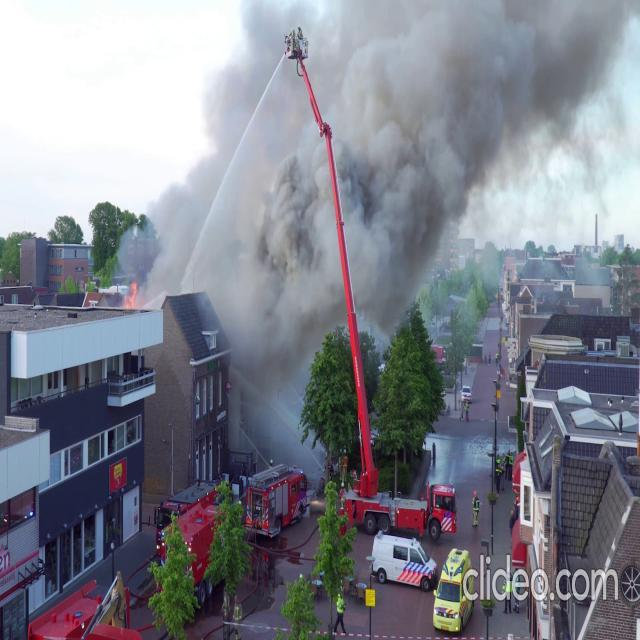Fire: (126, 278, 138, 310)
Smoke: (136, 0, 639, 376)
